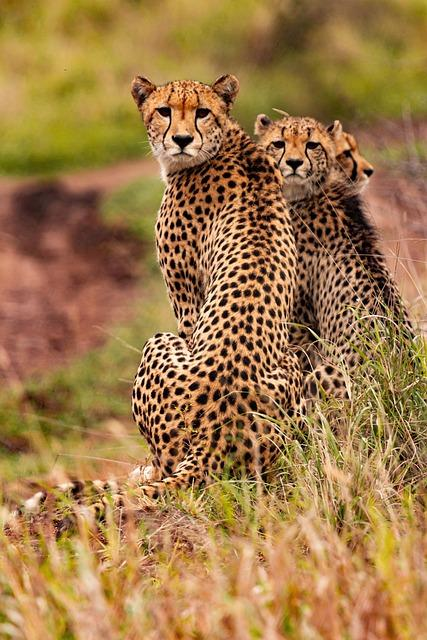Non_Gorille: (0, 10, 427, 640)
